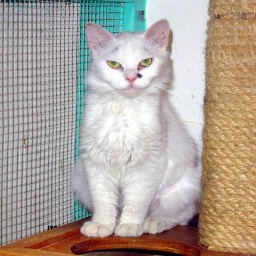cat: (75, 20, 208, 239)
